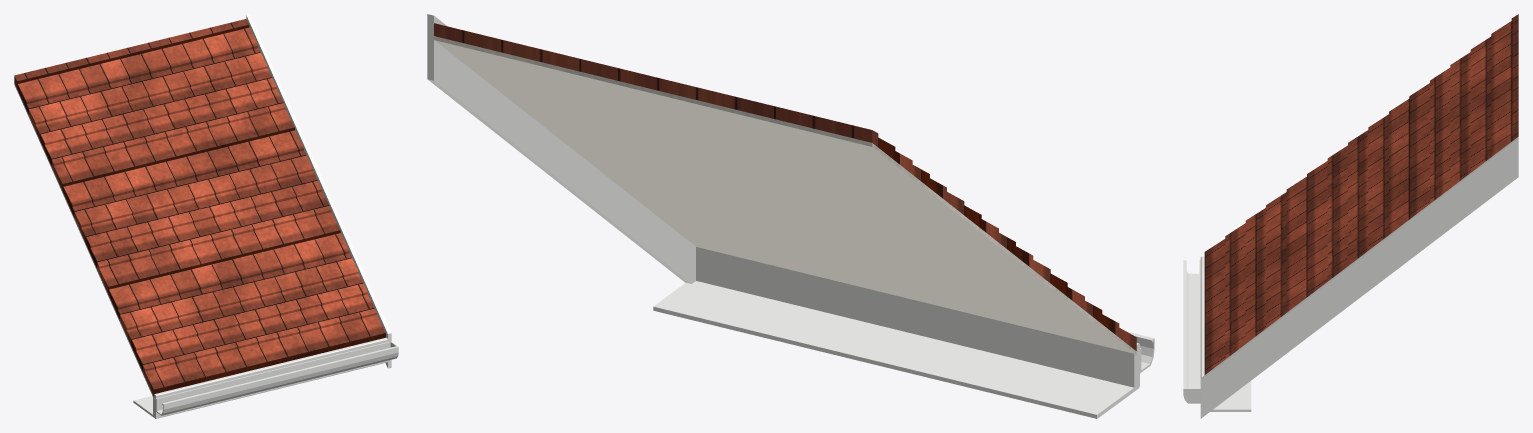
Rendered from groof_eave_b.glb.
3 renders of one model, left to right at view 1: azimuth 30°, elevation 25°; view 2: azimuth 150°, elevation 25°; view 3: azimuth 270°, elevation 25°, orthographic. The views are drawn at different scales.
Parts seen in each view (by area): view 1: groof_eave_b_shingles, groof_eave_b_gutter, groof_eave_b_trim, groof_eave_b_plaster; view 2: groof_eave_b_plaster, groof_eave_b_trim, groof_eave_b_shingles; view 3: groof_eave_b_shingles, groof_eave_b_trim, groof_eave_b_gutter.
Boxes of the visible parts, box(x1,y1,x2,y2) form: groof_eave_b_shingles: box(14, 19, 385, 396); groof_eave_b_gutter: box(156, 341, 398, 415); groof_eave_b_trim: box(133, 14, 391, 418); groof_eave_b_plaster: box(14, 83, 154, 399); groof_eave_b_plaster: box(434, 36, 1136, 355); groof_eave_b_trim: box(427, 14, 1139, 418); groof_eave_b_shingles: box(434, 23, 1136, 350); groof_eave_b_shingles: box(1204, 14, 1518, 374); groof_eave_b_trim: box(1200, 137, 1518, 418); groof_eave_b_gutter: box(1183, 260, 1200, 403).
Bounding box in the file's own units: 2.28 × 2.32 × 2.51.
4 materials, 2 textured.
